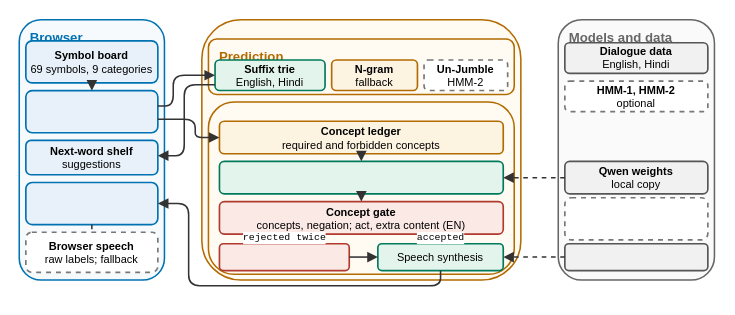
This 735x315 diagram has some shape labels left out. The shapes that lost their labels are listed below. From the top down, each one's box as (x1, y1, x2, y2) in pixels, then its label:
(25, 89, 158, 133): Sentence canvas ordered labels, intent
(201, 18, 521, 280): Server (local)
(207, 101, 514, 275): Realization and speech
(218, 160, 504, 194): Qwen2.5-0.5B-Instruct cascade realize, refine, verify; one retry
(25, 181, 158, 225): Output card text, replay, audio
(564, 196, 708, 240): Optional services sign-in, symbol art, transliteration
(218, 242, 350, 271): Template fallback
(564, 242, 708, 271): IndicF5 + reference clips
